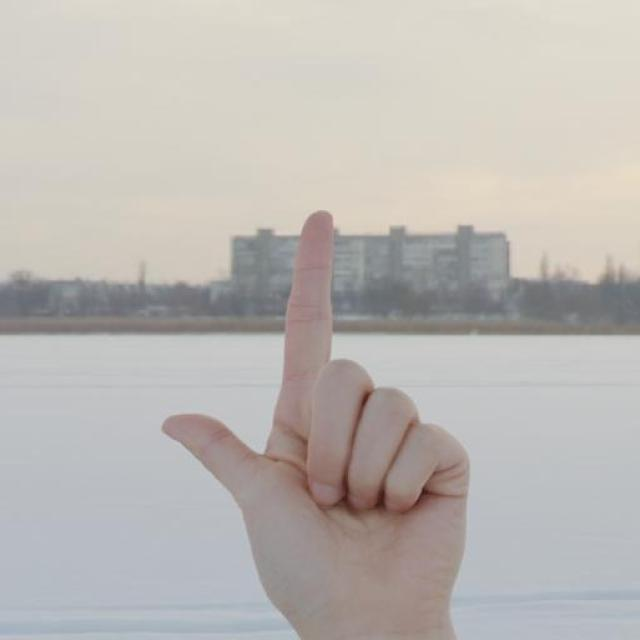L: (155, 205, 475, 640)
